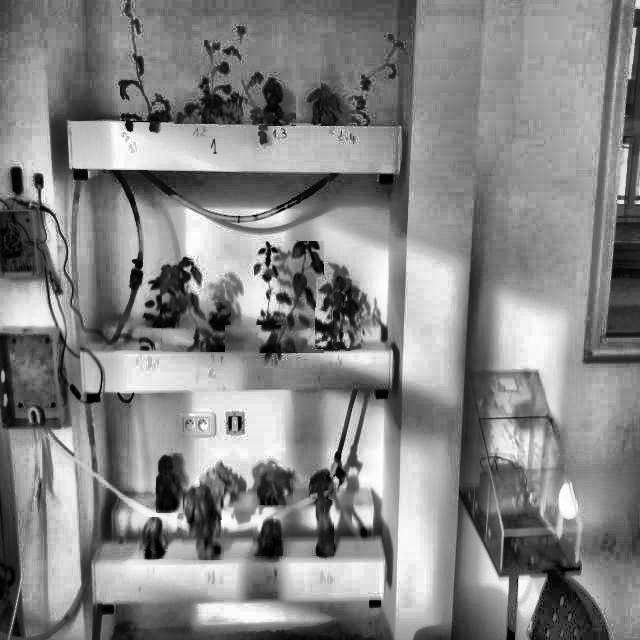plants: (218, 26, 296, 126), (321, 34, 403, 126), (259, 241, 324, 353), (120, 0, 174, 121), (162, 258, 225, 352), (174, 40, 239, 124), (317, 279, 361, 349), (182, 487, 224, 560), (254, 241, 288, 325), (146, 274, 178, 328), (156, 453, 183, 513), (257, 467, 293, 505), (138, 517, 168, 559), (253, 519, 283, 556), (317, 493, 334, 556), (310, 465, 336, 499), (206, 301, 231, 325)
